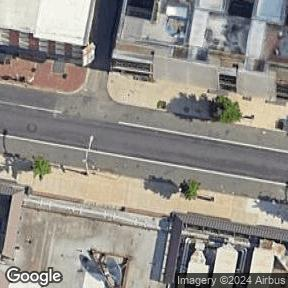vegetation: (207, 93, 242, 127), (28, 156, 53, 181), (177, 179, 200, 201)
